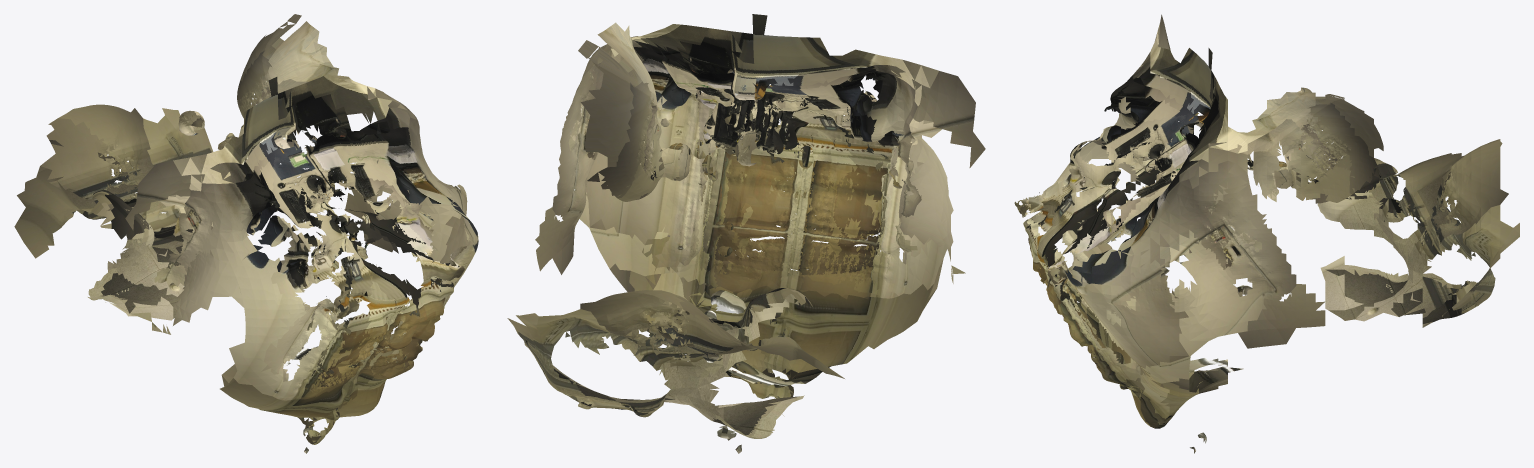
The picture shows the model from 3 angles, left to right: view 1: azimuth 30°, elevation 25°; view 2: azimuth 150°, elevation 25°; view 3: azimuth 270°, elevation 25°; orthographic projection. The views are drawn at different scales.
Bounding box in the file's own units: 1.46 × 1.52 × 1.78.
22 materials, 22 textured.
